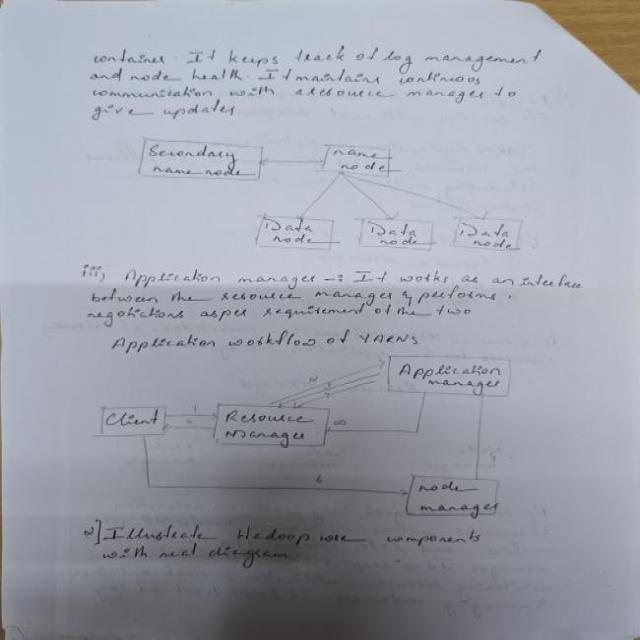Figure Detection - v3 Dataset Version2: (83, 349, 524, 525), (127, 123, 535, 264)
